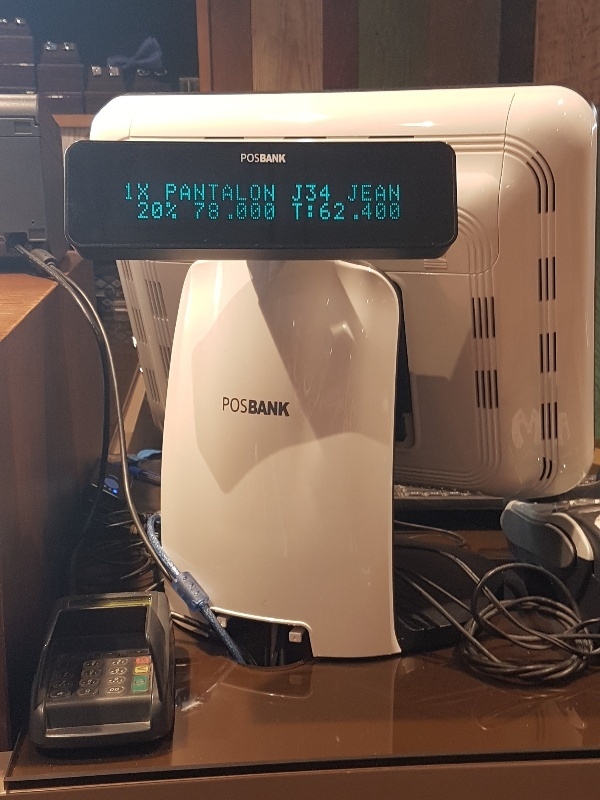text: (225, 397, 240, 417), (241, 397, 256, 417), (257, 397, 272, 417), (273, 397, 288, 417), (385, 184, 401, 202), (177, 183, 192, 202), (193, 183, 208, 202), (209, 183, 224, 202), (225, 183, 240, 202), (241, 183, 256, 202), (257, 183, 272, 202), (209, 202, 224, 221), (225, 202, 240, 221), (241, 202, 256, 221), (257, 202, 272, 221), (305, 203, 320, 221), (321, 203, 336, 221), (337, 203, 352, 221), (353, 203, 368, 221), (369, 203, 384, 221), (385, 203, 400, 221), (305, 184, 320, 202), (353, 184, 368, 202), (369, 184, 384, 202), (129, 183, 144, 201), (145, 202, 160, 220), (161, 202, 176, 220), (195, 202, 208, 221), (292, 203, 304, 221), (292, 184, 304, 202), (166, 183, 176, 202), (321, 184, 331, 202), (241, 154, 256, 164), (257, 154, 272, 164), (273, 154, 287, 164), (138, 202, 144, 220), (113, 668, 128, 675), (115, 659, 128, 666), (145, 183, 150, 201), (115, 677, 128, 683), (348, 184, 352, 202), (125, 183, 128, 201), (86, 689, 96, 694), (88, 679, 96, 685), (57, 690, 64, 696), (289, 397, 291, 417), (273, 183, 275, 202), (273, 202, 275, 221), (113, 688, 121, 692), (59, 681, 64, 687), (223, 397, 224, 417), (92, 662, 96, 667), (177, 202, 178, 220), (65, 681, 67, 687), (110, 688, 112, 692)
